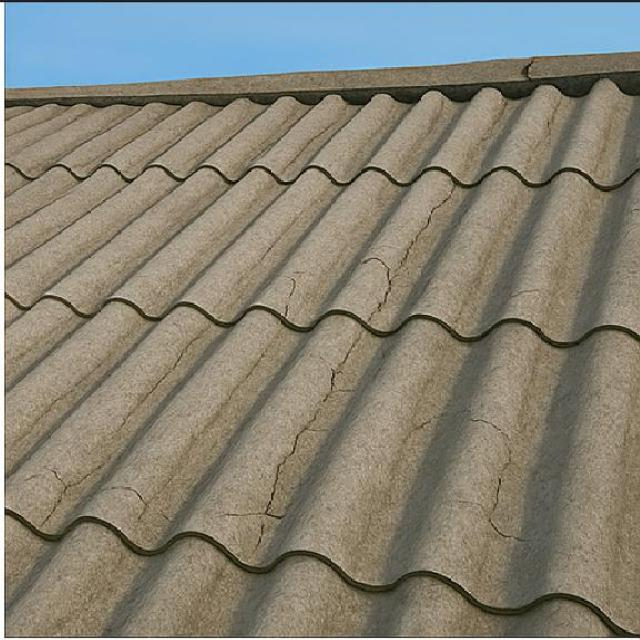fissure: (206, 178, 459, 543), (19, 313, 218, 534)
